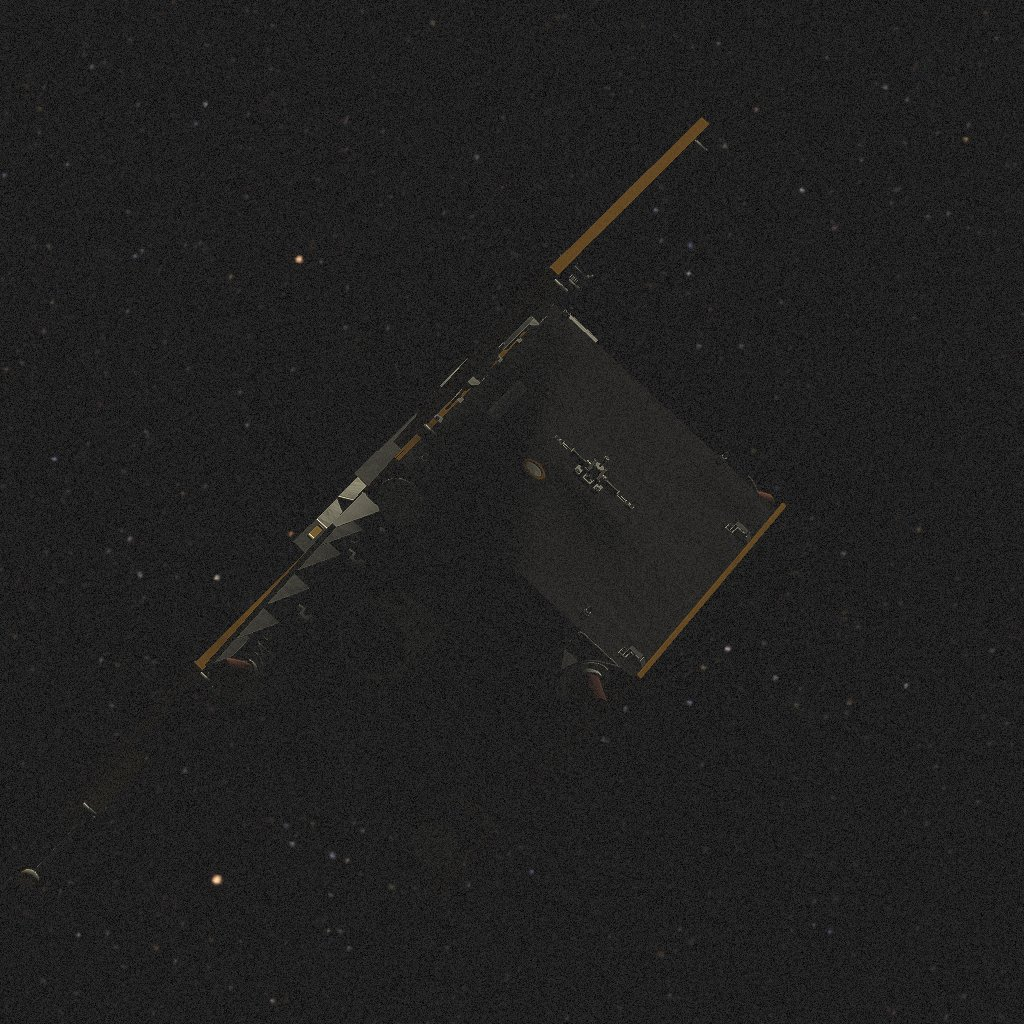proba_2: (18, 117, 786, 901)
